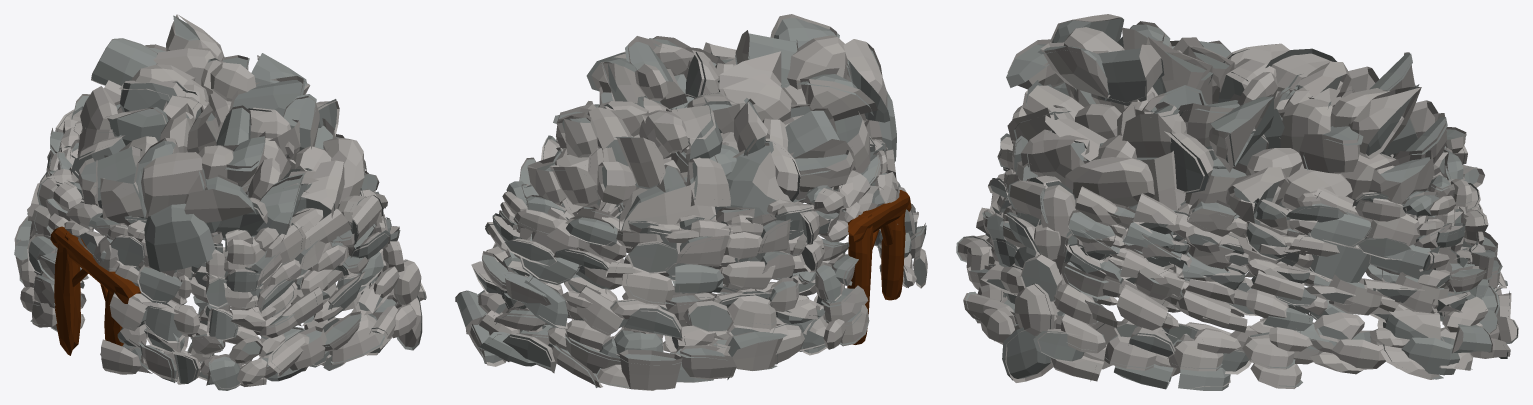
The model's file is Mine.fbx.
3 renders of one model, left to right at view 1: azimuth 30°, elevation 25°; view 2: azimuth 150°, elevation 25°; view 3: azimuth 270°, elevation 25°, orthographic. The views are drawn at different scales.
Parts seen in each view (by area): view 1: Cave; view 2: Cave; view 3: Cave.
Part boxes in pixels (x1,y1,x2,y2): Cave: [14, 14, 426, 390]; Cave: [455, 14, 927, 390]; Cave: [956, 14, 1518, 390].
Size of the model in its own units: 1381 by 993 by 1812.
